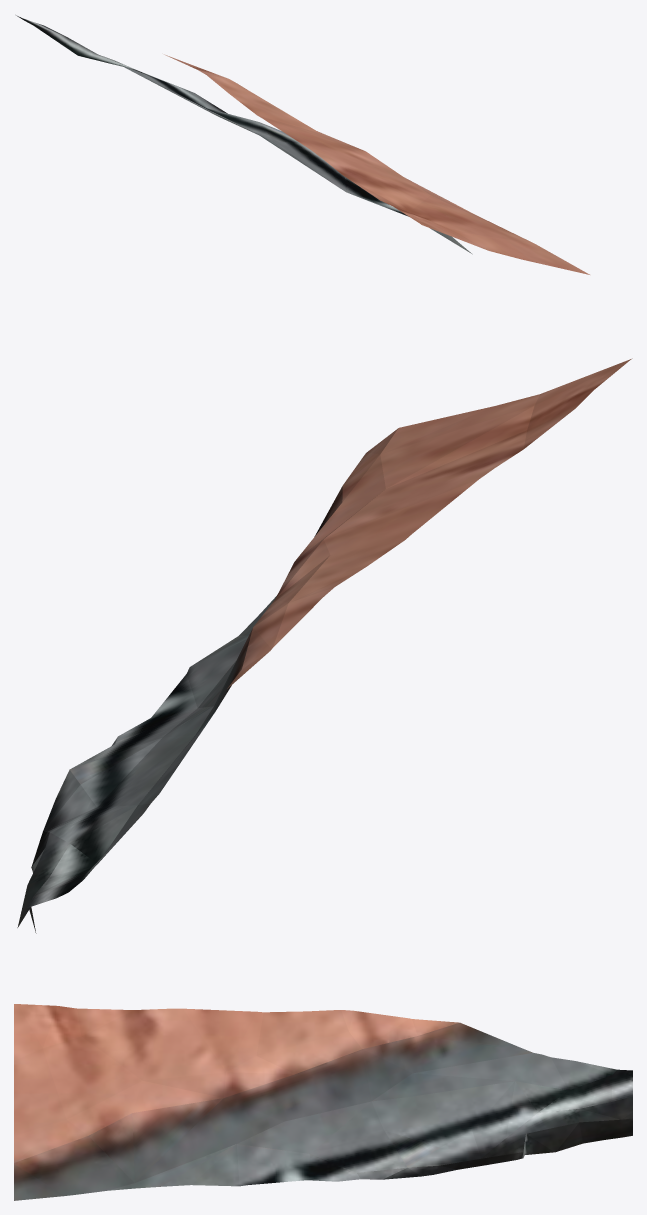
The picture shows the model from 3 angles, top to bottom: view 1: azimuth 30°, elevation 25°; view 2: azimuth 150°, elevation 25°; view 3: azimuth 270°, elevation 25°; orthographic projection. The views are drawn at different scales.
Size of the model in its own units: 0.2505 by 0.1772 by 0.8374.
1 material, 1 textured.
